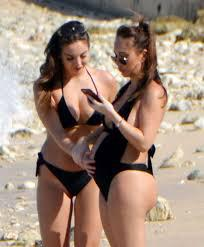Person: (72, 19, 168, 247), (33, 20, 117, 247)
